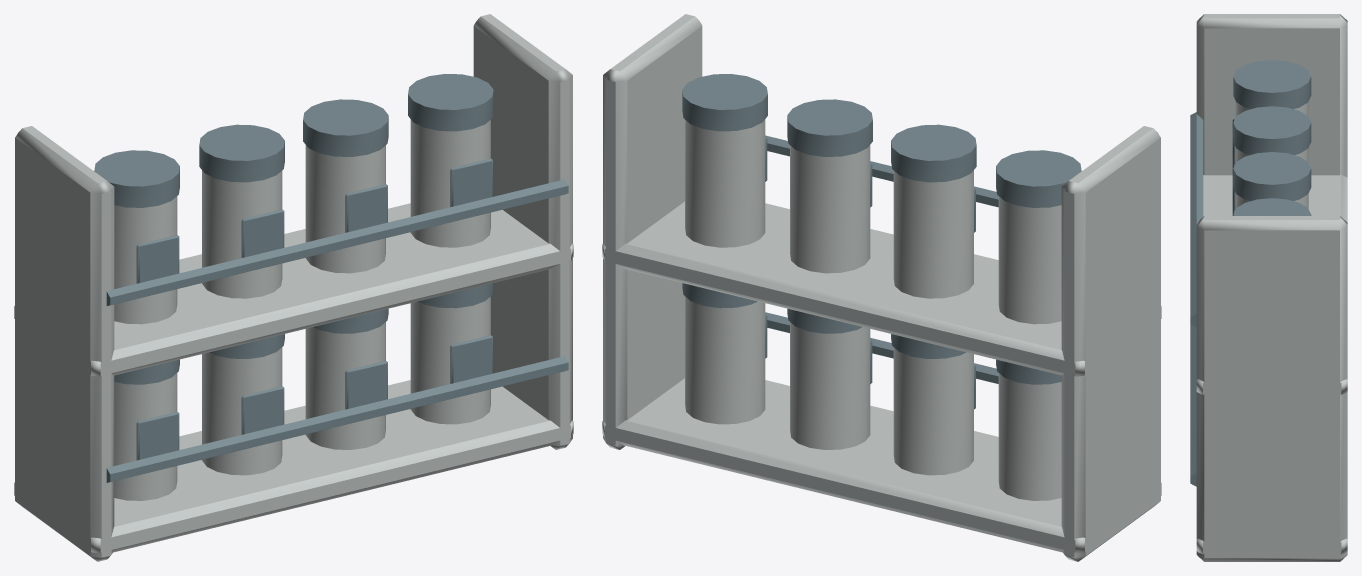
Rendered from spice-rack.glb.
3 views of the same model, side by side, from view 1: azimuth 30°, elevation 25°; view 2: azimuth 150°, elevation 25°; view 3: azimuth 270°, elevation 25° (orthographic). The views are drawn at different scales.
Parts seen in each view (by area): view 1: rack_side, shelf.001, shelf, rack_side.001, front_rail, front_rail.001, spice_jar.006, spice_jar.007, spice_jar.003, spice_jar.002, spice_jar.005, spice_jar.001 (+18 smaller); view 2: rack_side, rack_side.001, shelf, shelf.001, spice_jar.005, spice_jar.006, spice_jar.007, spice_jar.002, spice_jar.003, spice_jar.001, spice_jar, spice_jar.004 (+10 smaller); view 3: rack_side.001, rack_side, shelf.001, jar_lid.004, jar_lid.006, jar_lid.005, front_rail.001, shelf, front_rail, jar_lid.007, spice_jar.006, spice_jar.004.
Boxes of the visible parts, <box> form: rack_side: <box>15,126,114,561</box>; shelf.001: <box>14,203,573,376</box>; shelf: <box>14,380,573,553</box>; rack_side.001: <box>473,14,572,449</box>; front_rail: <box>106,356,568,482</box>; front_rail.001: <box>106,179,568,305</box>; spice_jar.006: <box>305,145,385,273</box>; spice_jar.007: <box>410,119,490,247</box>; spice_jar.003: <box>410,296,490,424</box>; spice_jar.002: <box>305,322,385,449</box>; spice_jar.005: <box>202,170,282,298</box>; spice_jar.001: <box>202,347,282,475</box>; rack_side: <box>1061,126,1160,561</box>; rack_side.001: <box>603,14,702,449</box>; shelf: <box>602,378,1161,553</box>; shelf.001: <box>602,201,1161,376</box>; spice_jar.005: <box>893,170,973,298</box>; spice_jar.006: <box>790,145,870,273</box>; spice_jar.007: <box>685,119,765,247</box>; spice_jar.002: <box>790,322,870,449</box>; spice_jar.003: <box>685,296,765,424</box>; spice_jar.001: <box>893,347,973,475</box>; spice_jar: <box>998,373,1061,500</box>; spice_jar.004: <box>998,196,1061,324</box>; rack_side.001: <box>1196,216,1347,561</box>; rack_side: <box>1196,14,1347,177</box>; shelf.001: <box>1196,175,1347,394</box>; jar_lid.004: <box>1233,60,1311,109</box>; jar_lid.006: <box>1233,152,1311,200</box>; jar_lid.005: <box>1233,106,1311,155</box>; front_rail.001: <box>1190,112,1203,326</box>; shelf: <box>1196,538,1347,554</box>; front_rail: <box>1190,324,1196,486</box>; jar_lid.007: <box>1233,198,1311,215</box>; spice_jar.006: <box>1235,193,1308,208</box>; spice_jar.004: <box>1235,101,1308,116</box>.
Size of the model in its own units: 0.4 by 0.3 by 0.1252.
